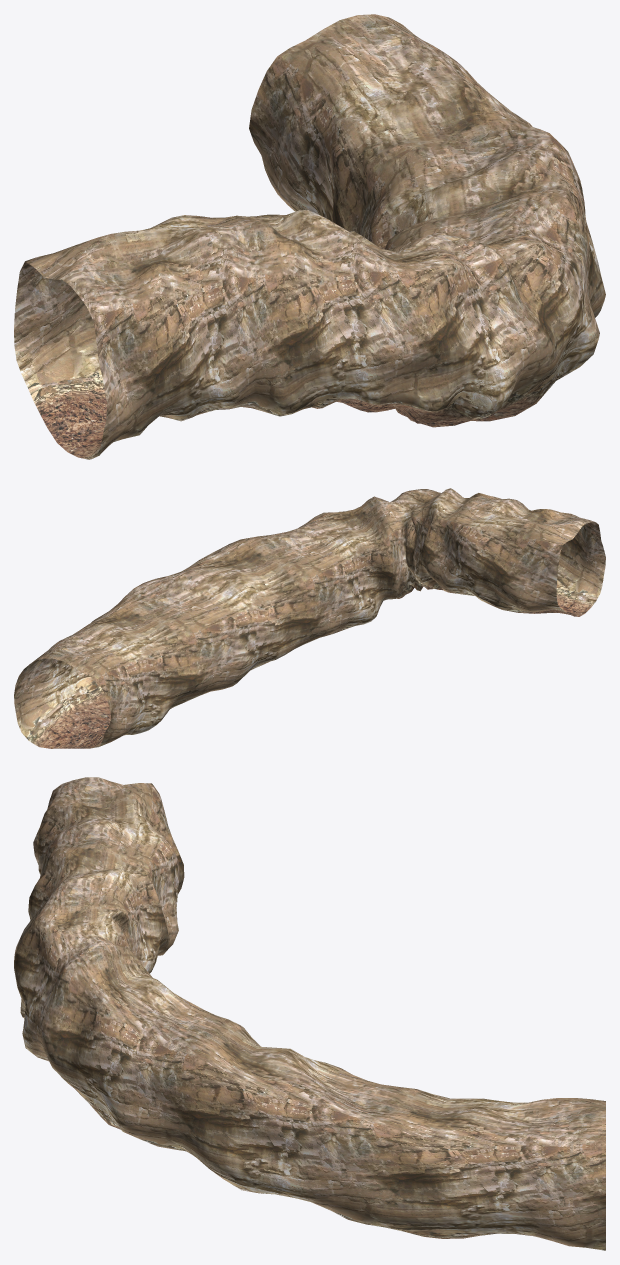
File: thm_tato_cave_s01_r8_mesh_r8.fbx
3 views of the same model, one above another, from view 1: azimuth 30°, elevation 25°; view 2: azimuth 150°, elevation 25°; view 3: azimuth 270°, elevation 25° (orthographic). The views are drawn at different scales.
Parts seen in each view (by area): view 1: mesh_node; view 2: mesh_node; view 3: mesh_node.
Boxes of the visible parts, box(x1,y1,x2,y2) form: mesh_node: box(14, 14, 605, 459); mesh_node: box(14, 488, 605, 748); mesh_node: box(14, 777, 605, 1250).
Size of the model in its own units: 41.91 by 19.02 by 40.92.
